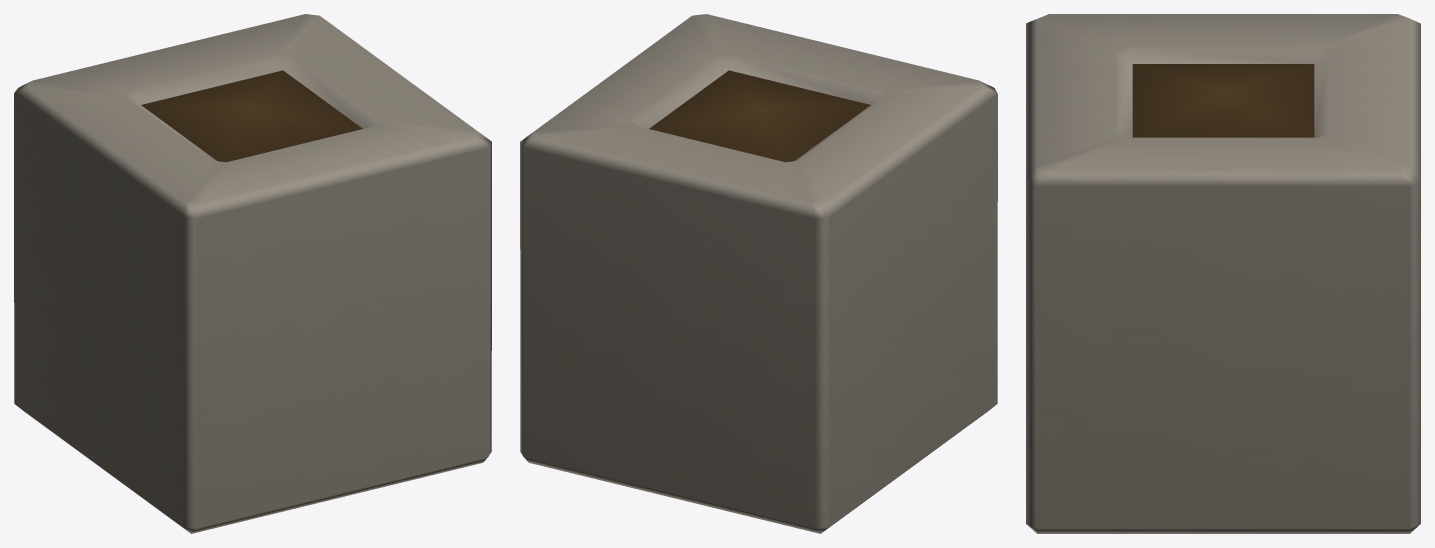
The model's file is plant_box_concrete_1x1x1.fbx.
3 views of the same model, side by side, from view 1: azimuth 30°, elevation 25°; view 2: azimuth 150°, elevation 25°; view 3: azimuth 270°, elevation 25° (orthographic). The views are drawn at different scales.
Visible parts, largest first — view 1: plant_box_concrete_1x1x1; view 2: plant_box_concrete_1x1x1; view 3: plant_box_concrete_1x1x1.
Boxes of the visible parts, box(x1,y1,x2,y2) form: plant_box_concrete_1x1x1: box(14, 14, 491, 533); plant_box_concrete_1x1x1: box(520, 14, 997, 533); plant_box_concrete_1x1x1: box(1026, 14, 1420, 533).
Bounding box in the file's own units: 100 × 101 × 100.
